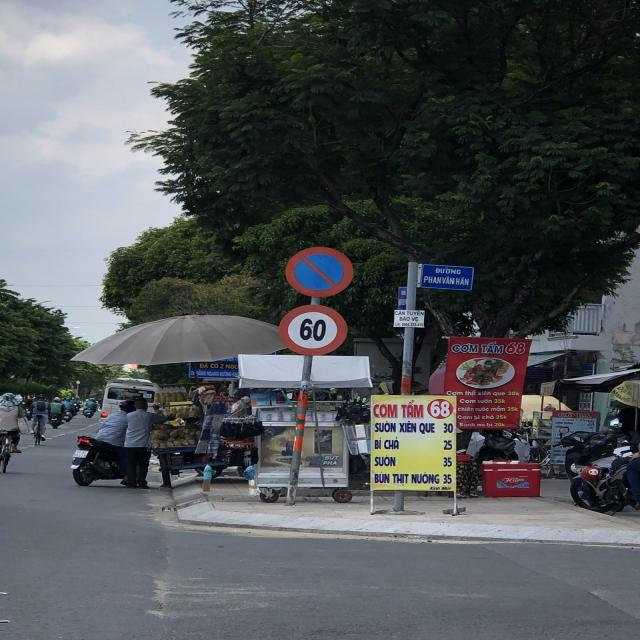Bien bao cam do xe: (282, 239, 362, 302)
Bien bao toc do toi da cho phep: (274, 300, 368, 362)
